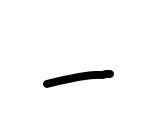minus: (42, 68, 113, 87)
